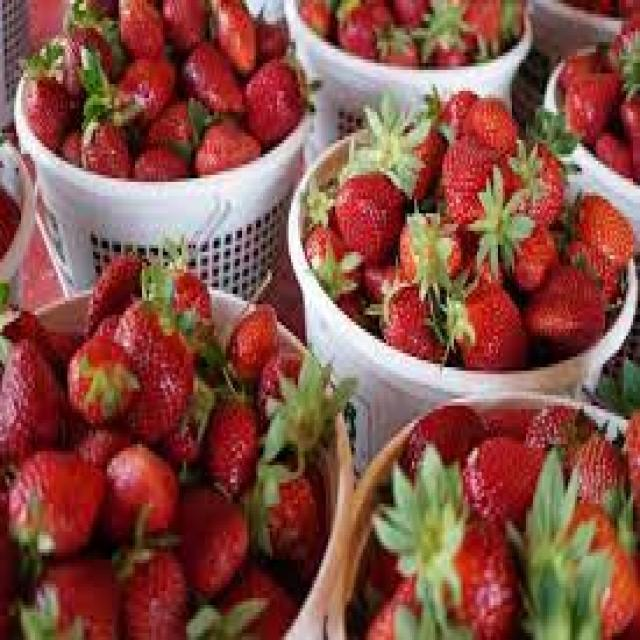Strawberry: (0, 244, 354, 636), (300, 84, 633, 368), (20, 0, 309, 178)
